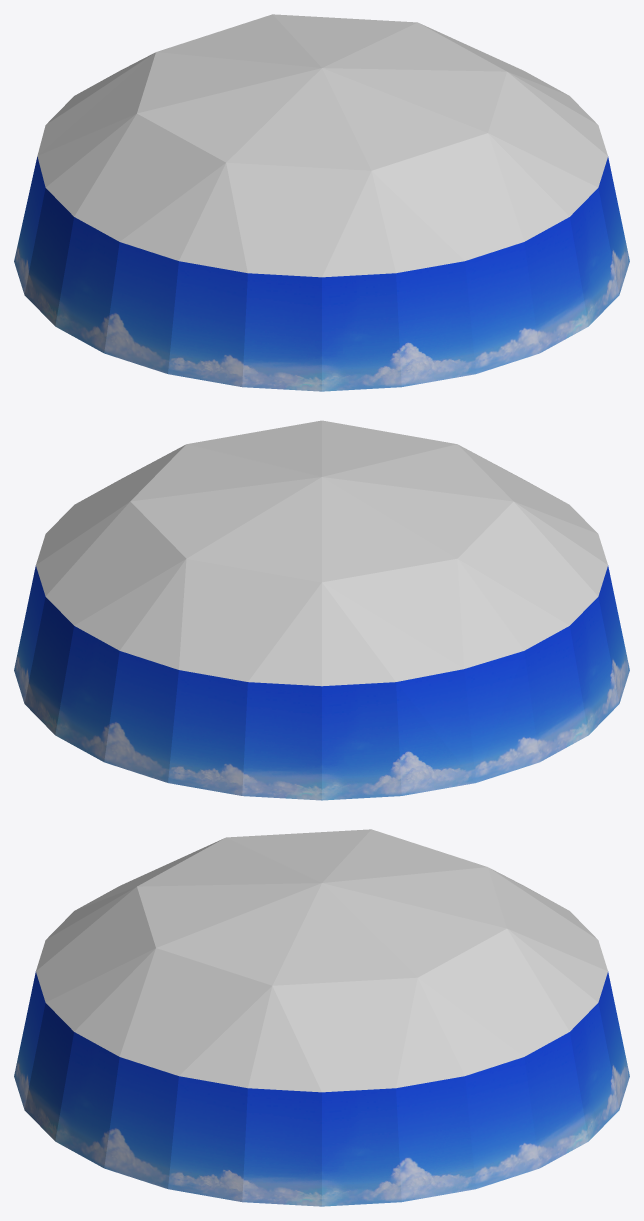
File: Skybox.obj
3 views of the same model, one above another, from view 1: azimuth 30°, elevation 25°; view 2: azimuth 150°, elevation 25°; view 3: azimuth 270°, elevation 25° (orthographic).
Visible parts, largest first — view 1: Object_2; view 2: Object_2; view 3: Object_2.
Boxes of the visible parts, left/top/right/bottom form: Object_2: left=14, top=14, right=629, bottom=391; Object_2: left=14, top=420, right=629, bottom=800; Object_2: left=14, top=829, right=629, bottom=1206.
Bounding box in the file's own units: 154672 × 54994 × 154672.
